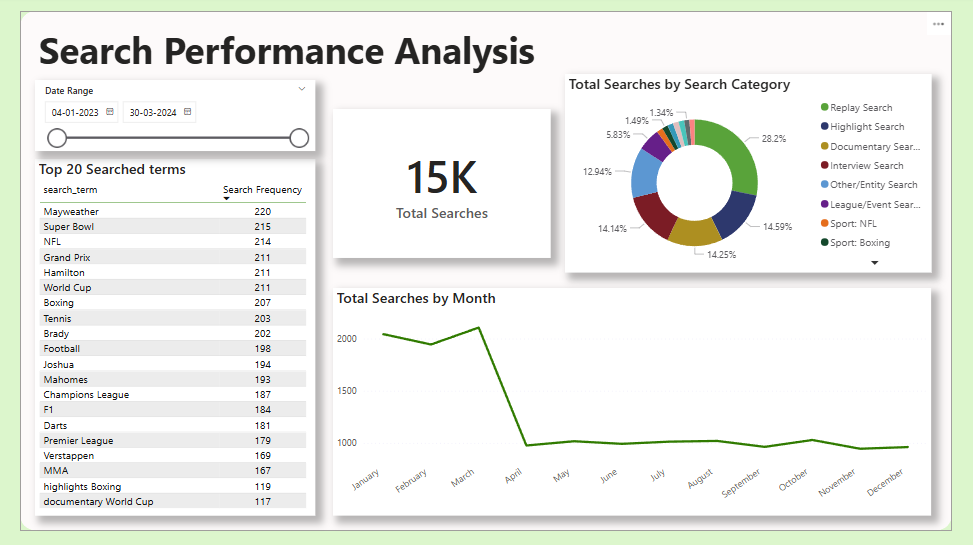

Layout of this report page (visuals, bound fields, positions):
{"tool":"powerbi","page":{"name":"Search Analysis","canvas":[1280,720],"ordinal":2},"visuals":[{"type":"shape","box":[30,20,1220,680],"z":0},{"type":"card","fields":{"Values":["user_search_queries.Total Searches"]},"box":[440,148.3,285,195],"z":1000},{"type":"tableEx","title":"Top 20 Searched terms","fields":{"Values":["user_search_queries.search_term","user_search_queries.Search Frequency"]},"box":[50,213.3,366.7,466.7],"z":2000},{"type":"lineChart","title":"Total Searches by Month","fields":{"Y":["user_search_queries.Total Searches"],"Category":["user_search_queries.month_name_visual"]},"box":[440,381.7,783.3,298.3],"z":3000},{"type":"slicer","fields":{"Values":["user_interactions.interaction_timestamp"]},"box":[50,110,366.7,93.3],"z":4000},{"type":"textbox","box":[50,31.7,693.3,88.3],"z":5000},{"type":"donutChart","title":"Total Searches by Search Category","fields":{"Category":["user_search_queries.search_category"],"Y":["user_search_queries.Total Searches"]},"box":[743.3,101.7,480,260],"z":6000}]}

Visuals, with their boxes in screenshot pixels (x1, y1, x2, y2), scaled from the page's 1280x720 canvas onto the 973x545 screenshot:
shape: Rect(23, 15, 950, 530)
card - user_search_queries.Total Searches: Rect(334, 112, 551, 260)
"Top 20 Searched terms" tableEx: Rect(38, 161, 317, 515)
"Total Searches by Month" lineChart: Rect(334, 289, 930, 515)
slicer - user_interactions.interaction_timestamp: Rect(38, 83, 317, 154)
textbox: Rect(38, 24, 565, 91)
"Total Searches by Search Category" donutChart: Rect(565, 77, 930, 274)
